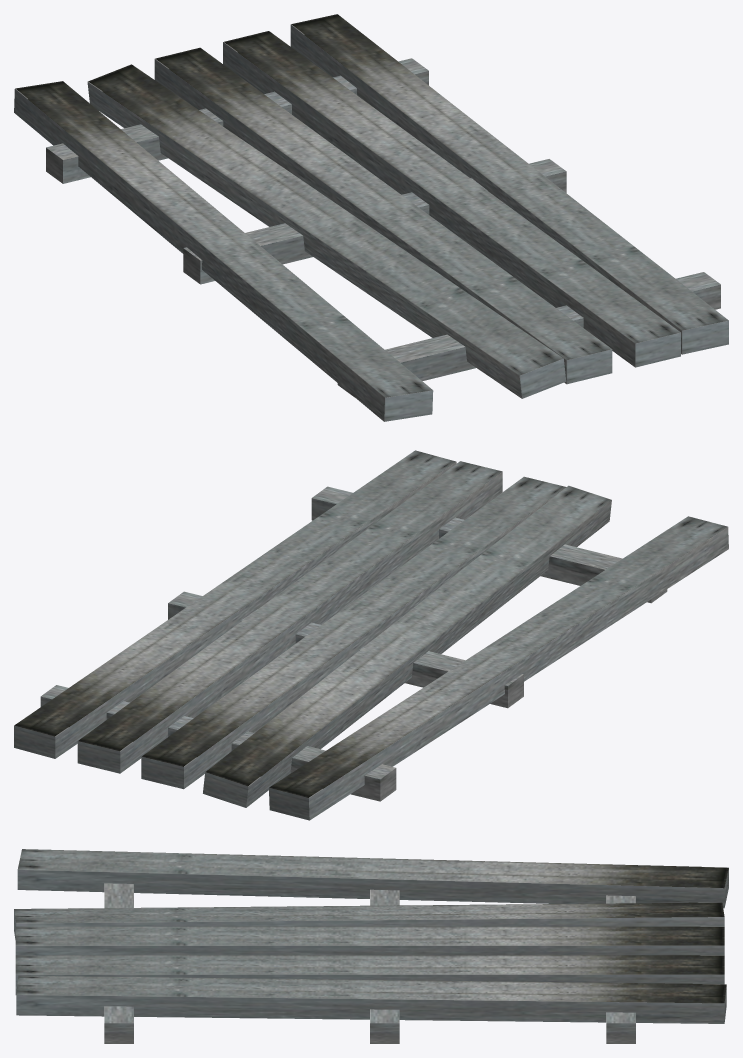
Rendered from fence_fallen.obj.
3 views of the same model, one above another, from view 1: azimuth 30°, elevation 25°; view 2: azimuth 150°, elevation 25°; view 3: azimuth 270°, elevation 25° (orthographic). The views are drawn at different scales.
Parts seen in each view (by area): view 1: dec; view 2: dec; view 3: dec.
Boxes of the visible parts, bbox=[...] form: dec: bbox=[14, 14, 728, 421]; dec: bbox=[14, 450, 728, 820]; dec: bbox=[14, 849, 728, 1043].
Bounding box in the file's own units: 1.05 × 0.1025 × 1.97.
1 material, 1 textured.
